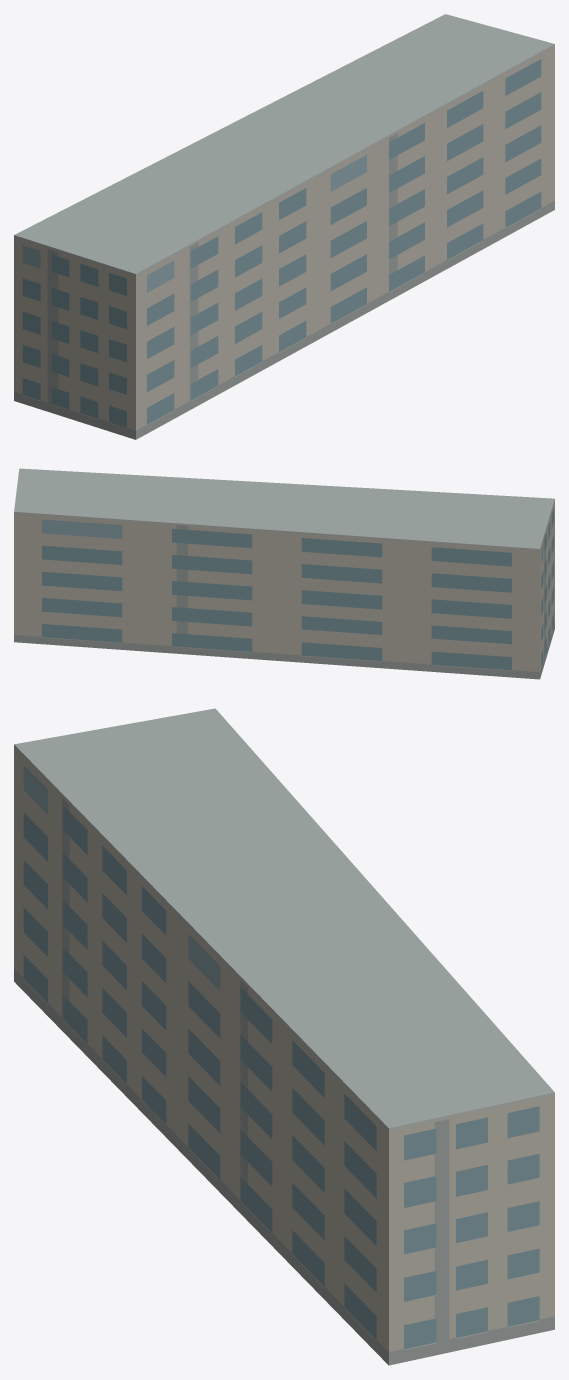
Rendered from residential-63be3da4-8eca-4b84-ba07-c094dc86841e.glb.
The picture shows the model from 3 angles, top to bottom: view 1: azimuth 30°, elevation 25°; view 2: azimuth 150°, elevation 25°; view 3: azimuth 270°, elevation 25°; orthographic projection. The views are drawn at different scales.
Parts seen in each view (by area): view 1: residential-63be3da4-8eca-4b84-ba07-c094dc86841e.tmp; view 2: residential-63be3da4-8eca-4b84-ba07-c094dc86841e.tmp; view 3: residential-63be3da4-8eca-4b84-ba07-c094dc86841e.tmp.
Part boxes in pixels (x1,y1,x2,y2): residential-63be3da4-8eca-4b84-ba07-c094dc86841e.tmp: (14,14,554,439); residential-63be3da4-8eca-4b84-ba07-c094dc86841e.tmp: (14,468,554,679); residential-63be3da4-8eca-4b84-ba07-c094dc86841e.tmp: (14,708,554,1365).
Size of the model in its own units: 57.88 by 15.25 by 31.51.
